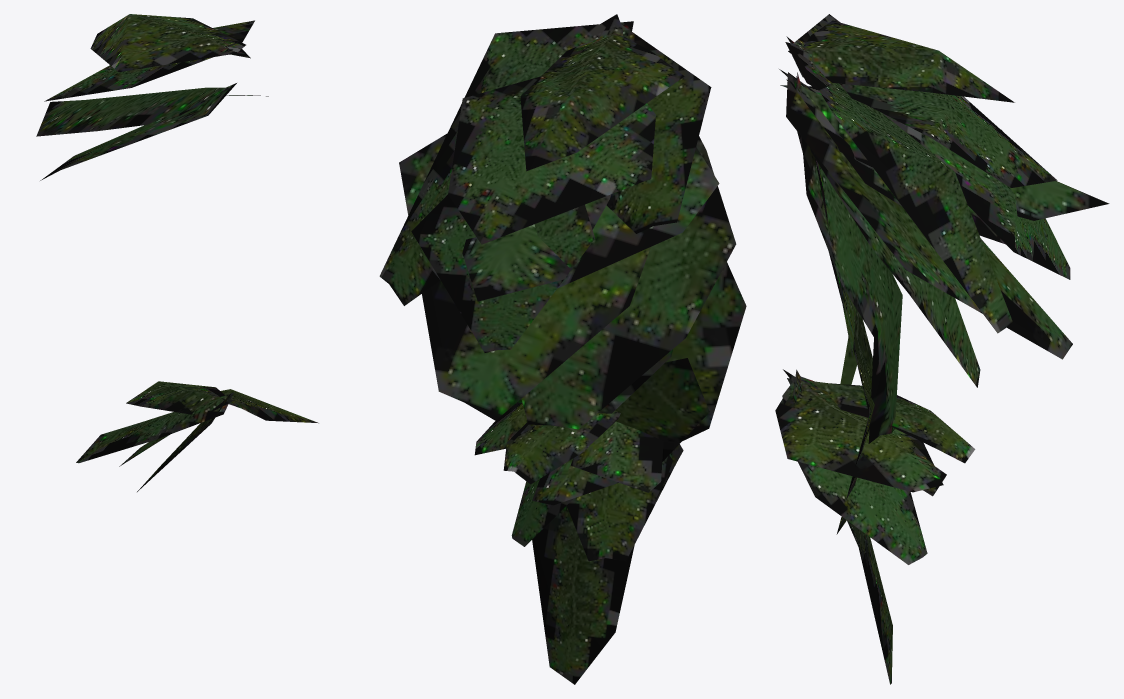
File: scotm_TELEMA_NAT_Juniper_Wall_Long-transformed.glb
3 renders of one model, left to right at view 1: azimuth 30°, elevation 25°; view 2: azimuth 150°, elevation 25°; view 3: azimuth 270°, elevation 25°, orthographic. The views are drawn at different scales.
Visible parts, largest first — view 1: default; view 2: default; view 3: default.
Part boxes in pixels (x1=…): default: x1=36, y1=14, x2=318, y2=491; default: x1=379, y1=14, x2=746, y2=684; default: x1=775, y1=14, x2=1109, y2=684.
Bounding box in the file's own units: 1.07 × 2.03 × 0.9528.
1 material, 1 textured.
